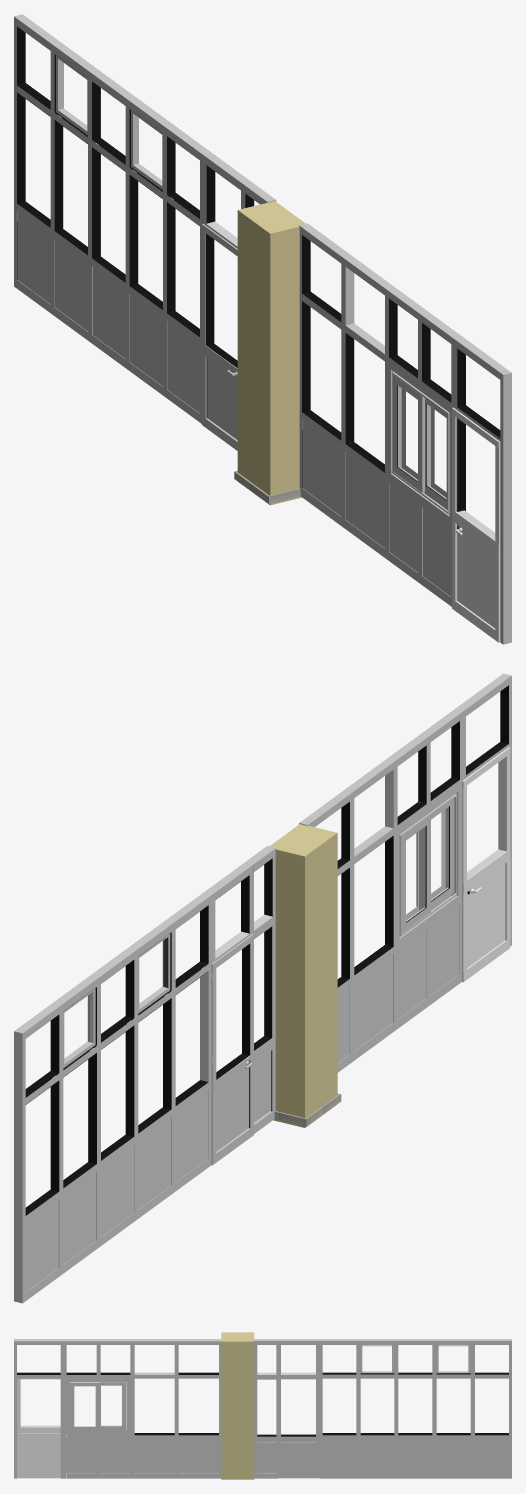
Rendered from paretevetratastruttra.gltf.
The picture shows the model from 3 angles, top to bottom: view 1: azimuth 30°, elevation 25°; view 2: azimuth 150°, elevation 25°; view 3: azimuth 270°, elevation 25°; orthographic projection. The views are drawn at different scales.
Visible parts, largest first — view 1: Infissi Finestrati SX Struttura, Infissi Finestrati Dx Struttura, Porta Parete, Cubo.209, Porta Infissi Finestrati Sx, Vetro Alta 3 Infissi Finestrati Dx, Vetro Alta 4 Infissi Finestrati Dx, Vetro Alta 2 Infissi Finestrati Sx, Vetro Alta 2 Infissi Finestrati Sx.001; view 2: Infissi Finestrati SX Struttura, Infissi Finestrati Dx Struttura, Porta Parete, Cubo.209, Porta Infissi Finestrati Sx, Vetro Alta 4 Infissi Finestrati Dx, Vetro Alta 3 Infissi Finestrati Dx, Vetro Alta 2 Infissi Finestrati Sx.001, Vetro Alta 2 Infissi Finestrati Sx; view 3: Infissi Finestrati SX Struttura, Infissi Finestrati Dx Struttura, Porta Parete, Cubo.209, Porta Infissi Finestrati Sx, Vetro Alta 4 Infissi Finestrati Dx, Vetro Alta 3 Infissi Finestrati Dx, Vetro Alta 2 Infissi Finestrati Sx, Vetro Alta 2 Infissi Finestrati Sx.001.
Boxes of the visible parts, left/top/right/bottom form: Infissi Finestrati SX Struttura: left=14, top=14, right=276, bottom=423; Infissi Finestrati Dx Struttura: left=299, top=223, right=511, bottom=644; Porta Parete: left=237, top=201, right=305, bottom=505; Cubo.209: left=452, top=407, right=500, bottom=642; Porta Infissi Finestrati Sx: left=201, top=224, right=237, bottom=450; Vetro Alta 3 Infissi Finestrati Dx: left=393, top=375, right=430, bottom=492; Vetro Alta 4 Infissi Finestrati Dx: left=425, top=398, right=447, bottom=508; Vetro Alta 2 Infissi Finestrati Sx: left=56, top=55, right=87, bottom=135; Vetro Alta 2 Infissi Finestrati Sx.001: left=131, top=110, right=162, bottom=189; Infissi Finestrati SX Struttura: left=14, top=846, right=275, bottom=1303; Infissi Finestrati Dx Struttura: left=299, top=673, right=511, bottom=1072; Porta Parete: left=268, top=824, right=337, bottom=1127; Cubo.209: left=462, top=747, right=510, bottom=982; Porta Infissi Finestrati Sx: left=204, top=934, right=253, bottom=1165; Vetro Alta 4 Infissi Finestrati Dx: left=416, top=798, right=454, bottom=910; Vetro Alta 3 Infissi Finestrati Dx: left=401, top=815, right=430, bottom=933; Vetro Alta 2 Infissi Finestrati Sx.001: left=138, top=933, right=170, bottom=1013; Vetro Alta 2 Infissi Finestrati Sx: left=63, top=988, right=95, bottom=1068; Infissi Finestrati SX Struttura: left=254, top=1339, right=511, bottom=1478; Infissi Finestrati Dx Struttura: left=14, top=1339, right=221, bottom=1478; Porta Parete: left=221, top=1332, right=254, bottom=1479; Cubo.209: left=17, top=1378, right=60, bottom=1478; Porta Infissi Finestrati Sx: left=277, top=1376, right=319, bottom=1478; Vetro Alta 4 Infissi Finestrati Dx: left=70, top=1382, right=99, bottom=1432; Vetro Alta 3 Infissi Finestrati Dx: left=97, top=1382, right=126, bottom=1431; Vetro Alta 2 Infissi Finestrati Sx: left=436, top=1345, right=470, bottom=1374; Vetro Alta 2 Infissi Finestrati Sx.001: left=360, top=1345, right=394, bottom=1374.
Bounding box in the file's own units: 0.4981 × 3.01 × 9.8.
Materials: 8 (1 with a texture image).
